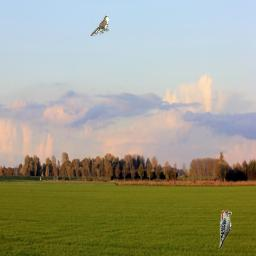Cuckoo: (90, 15, 109, 36)
Woodpecker: (218, 210, 232, 250)
